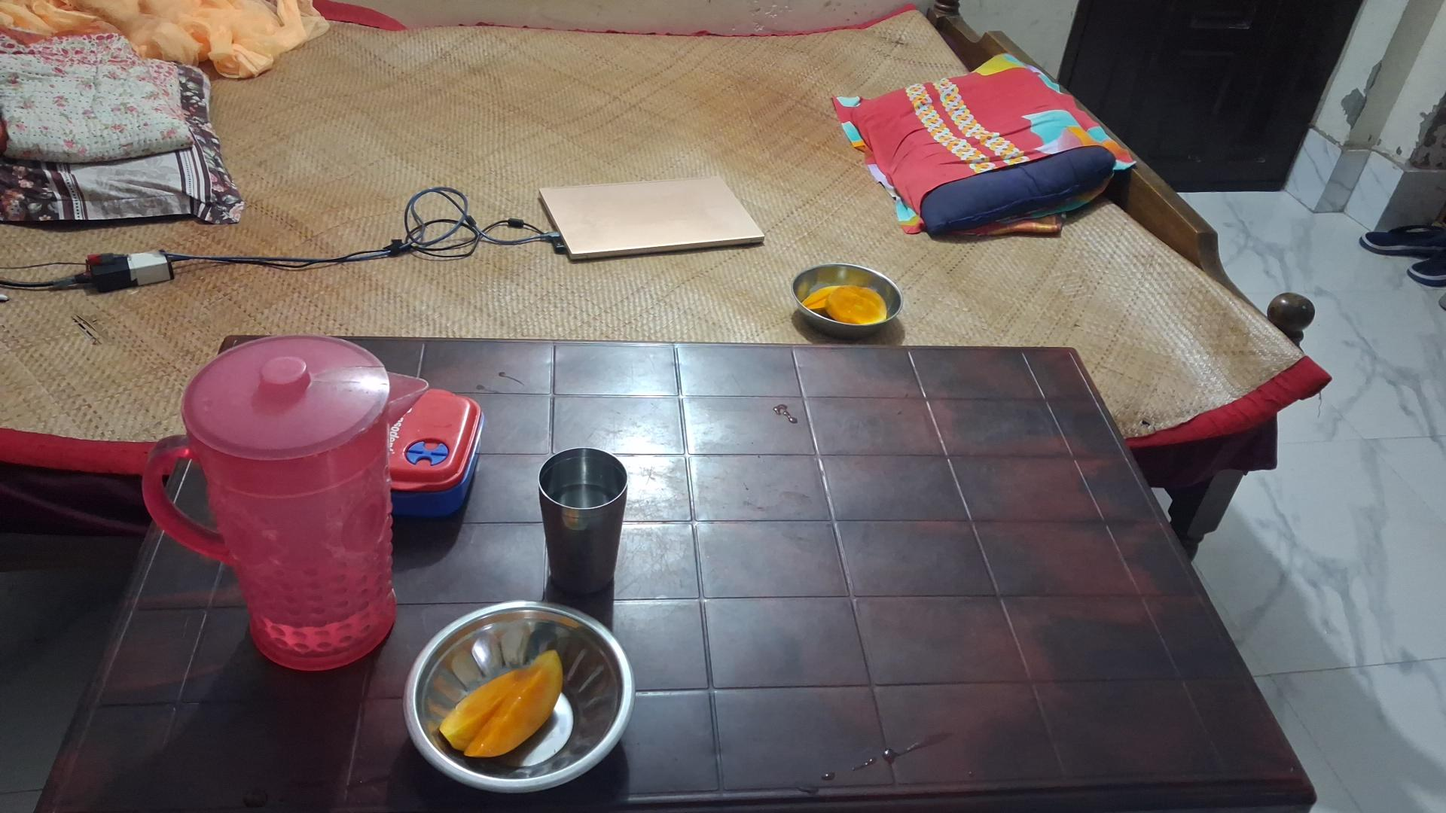Blanket: (3, 37, 189, 168)
Bowl: (404, 601, 635, 794), (791, 262, 905, 343)
Food: (445, 649, 573, 755), (799, 280, 900, 332)
Glass: (538, 447, 628, 593)
Jar: (388, 381, 477, 512)
Jug: (140, 335, 398, 671)
Laptop: (533, 172, 769, 259)
Pillow: (827, 52, 1139, 238)
